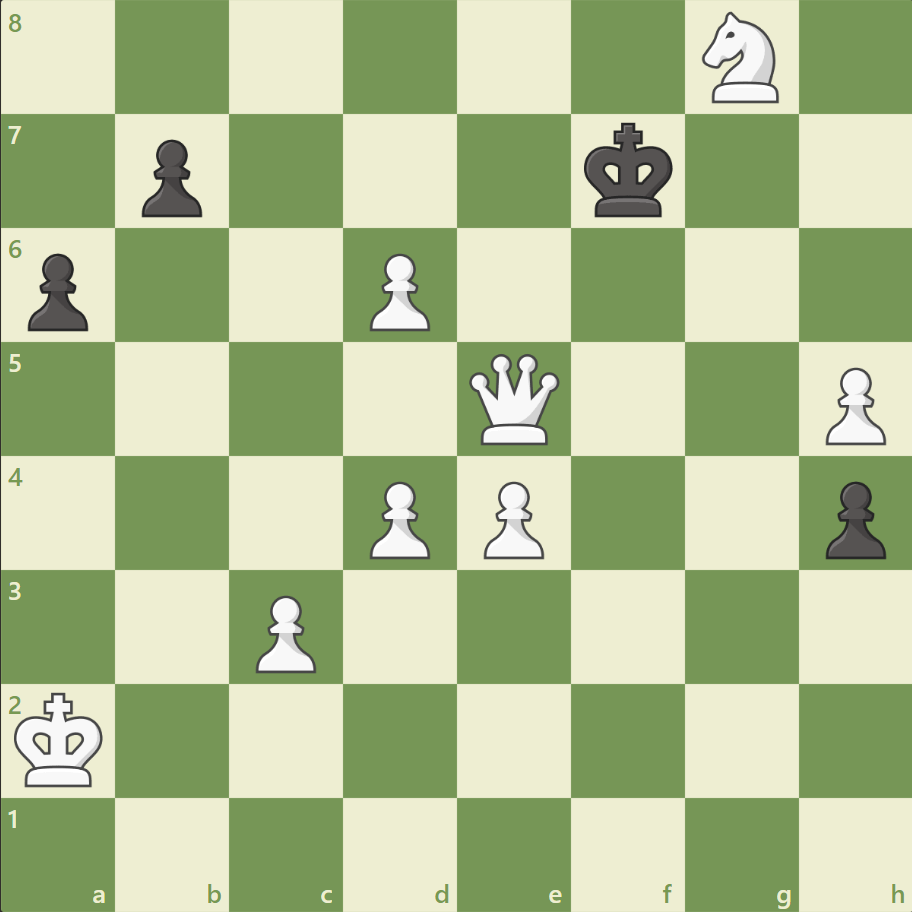K: (11, 685, 111, 793)
N: (692, 7, 789, 110)
P: (474, 473, 549, 564), (247, 586, 322, 677), (361, 246, 435, 337), (815, 359, 889, 450), (361, 473, 435, 564)
Q: (464, 349, 563, 449)
k: (579, 117, 679, 225)
p: (133, 132, 208, 223), (20, 246, 95, 337), (815, 473, 889, 564)
